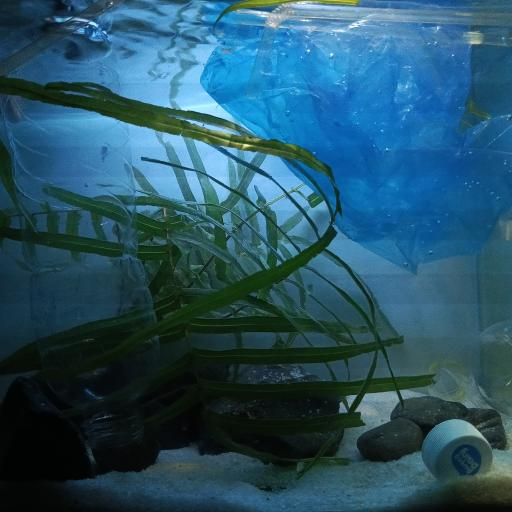bottle_cap: (420, 416, 492, 481)
plastic_bag: (197, 0, 512, 273)
plastic_bottle: (2, 14, 164, 461)
plastic_straw: (250, 4, 512, 46)
